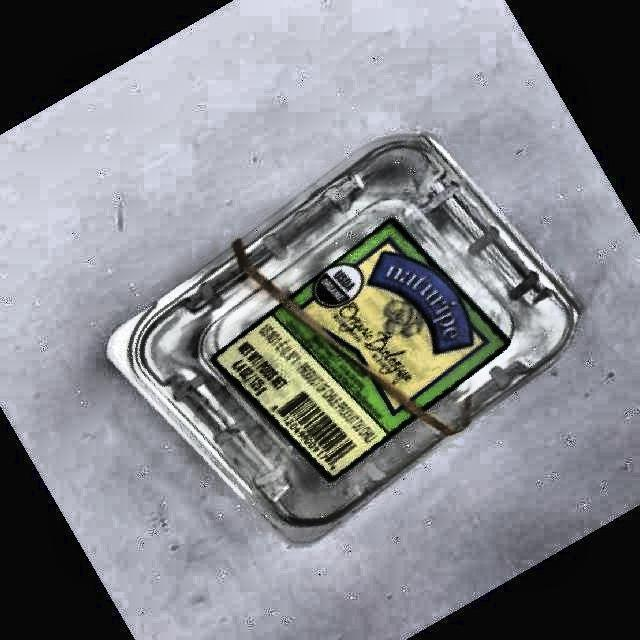plastic: (109, 135, 578, 541)
